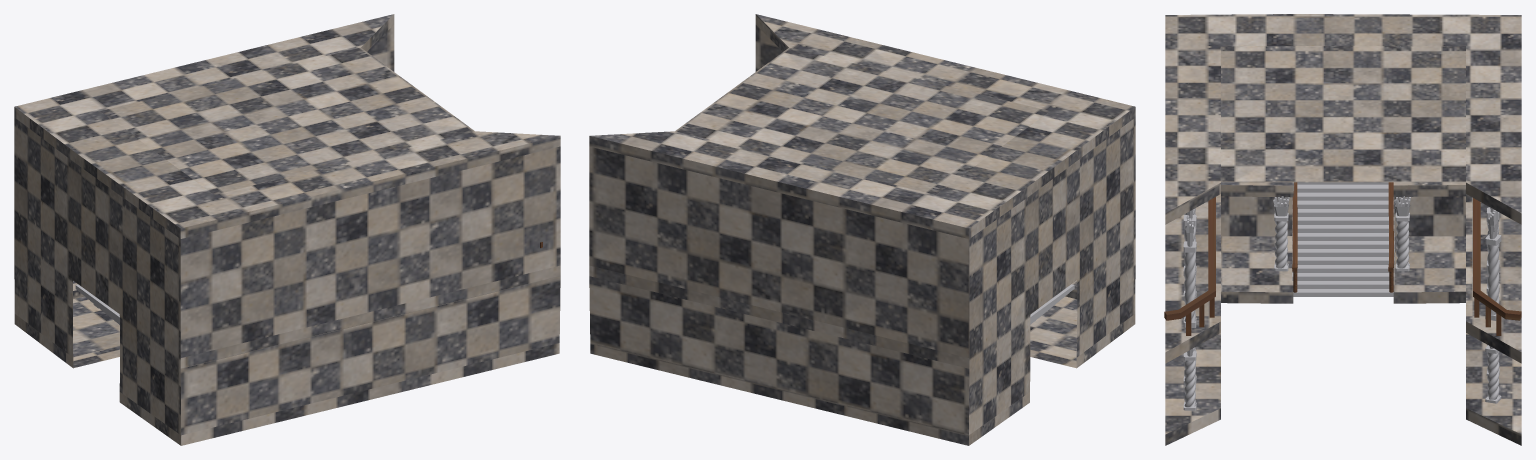
File: CASTILLOOPTIMIZADO 1.fbx
3 views of the same model, side by side, from view 1: azimuth 30°, elevation 25°; view 2: azimuth 150°, elevation 25°; view 3: azimuth 270°, elevation 25° (orthographic). The views are drawn at different scales.
Visible parts, largest first — view 1: Cube.099; view 2: Cube.099; view 3: Cube.099.
Part boxes in pixels (x1,y1,x2,y2): Cube.099: (14, 14, 560, 445); Cube.099: (589, 14, 1135, 445); Cube.099: (1164, 14, 1521, 445).
Size of the model in its own units: 19033 by 10402 by 14438.
